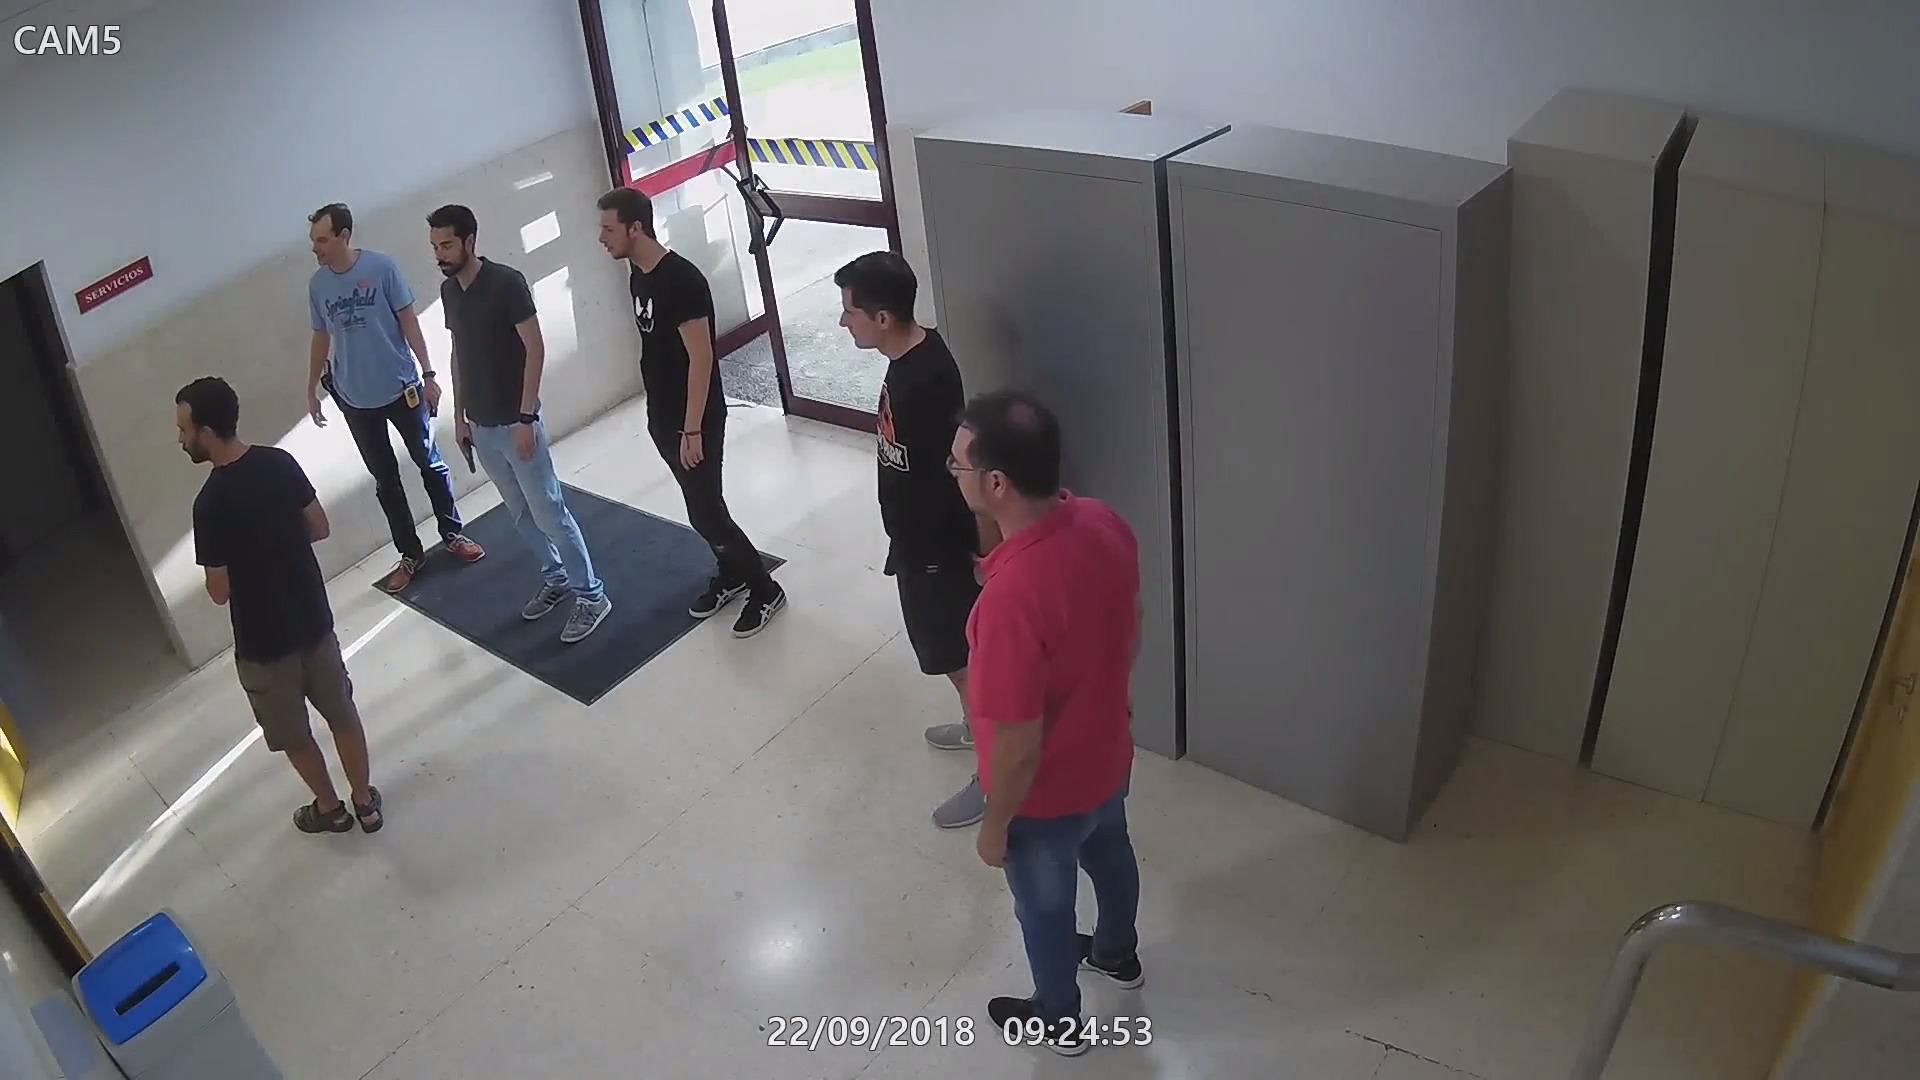Handgun: (450, 417, 480, 473), (316, 353, 342, 417), (877, 529, 898, 580)
Knife: (419, 378, 446, 462)
